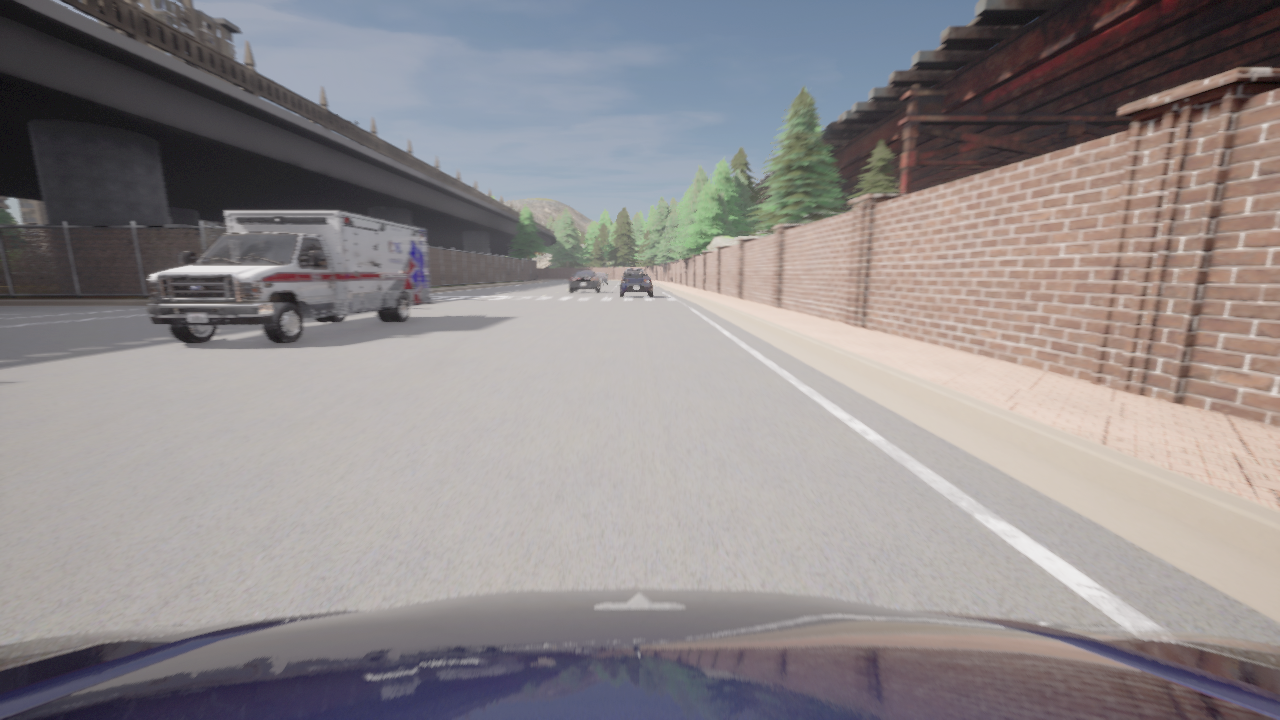cyclist: (0, 588, 1279, 719), (147, 210, 433, 343), (619, 269, 653, 297), (568, 269, 601, 293), (595, 271, 610, 285)
